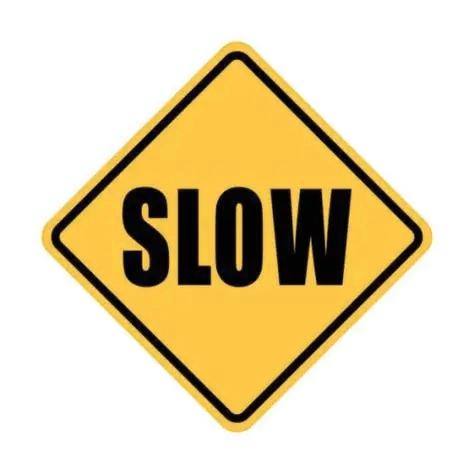Slow: (52, 51, 422, 422)
